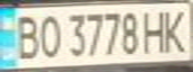3: (63, 9, 87, 57)
7: (84, 9, 106, 56), (103, 8, 124, 56)
8: (121, 8, 142, 56)
B: (6, 11, 42, 61)
H: (139, 7, 172, 54)
K: (160, 6, 193, 54)
O: (33, 11, 63, 60)
